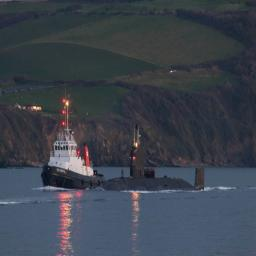submarine: (100, 146, 205, 192)
